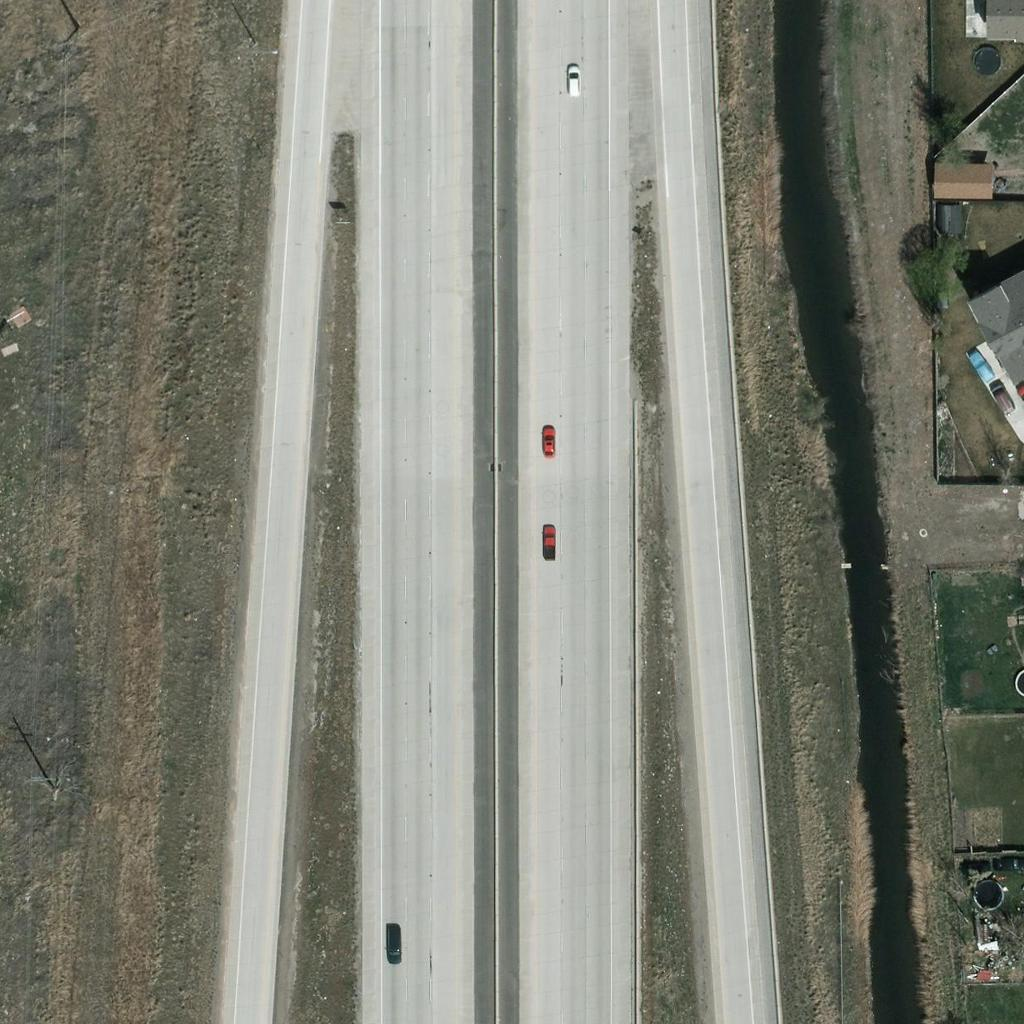car: (555, 64, 589, 98), (984, 379, 1018, 413), (531, 425, 565, 459), (532, 523, 566, 557), (376, 925, 410, 959), (993, 844, 1024, 878)
